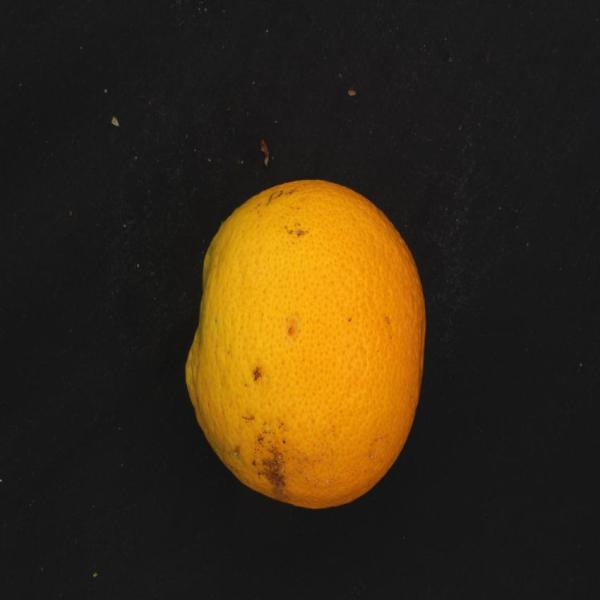Sana: (184, 166, 444, 513)
